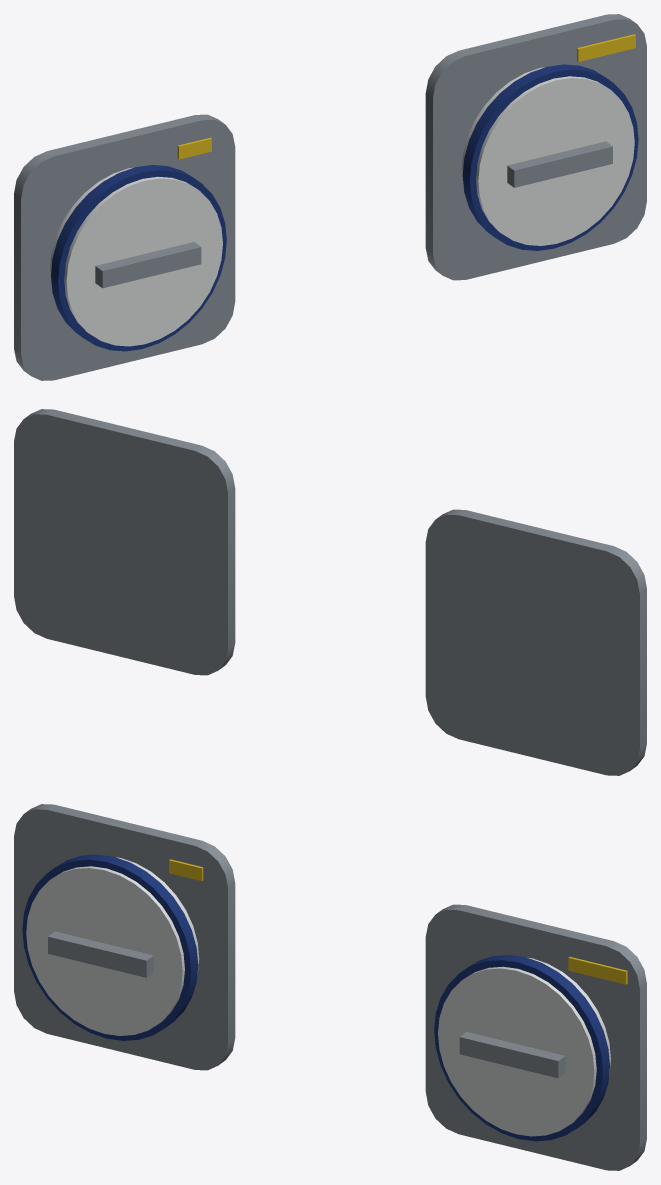
The model's file is l4_scrubber.obj.
3 renders of one model, top to bottom at view 1: azimuth 30°, elevation 25°; view 2: azimuth 150°, elevation 25°; view 3: azimuth 330°, elevation 25°, orthographic.
Visible parts, largest first — view 1: l4_scrubber; view 2: l4_scrubber; view 3: l4_scrubber.
Boxes of the visible parts, x1=… form: l4_scrubber: x1=14, y1=14, x2=646, y2=380; l4_scrubber: x1=14, y1=409, x2=646, y2=775; l4_scrubber: x1=14, y1=804, x2=646, y2=1170.
Bounding box in the file's own units: 1.52 × 0.52 × 0.13.
